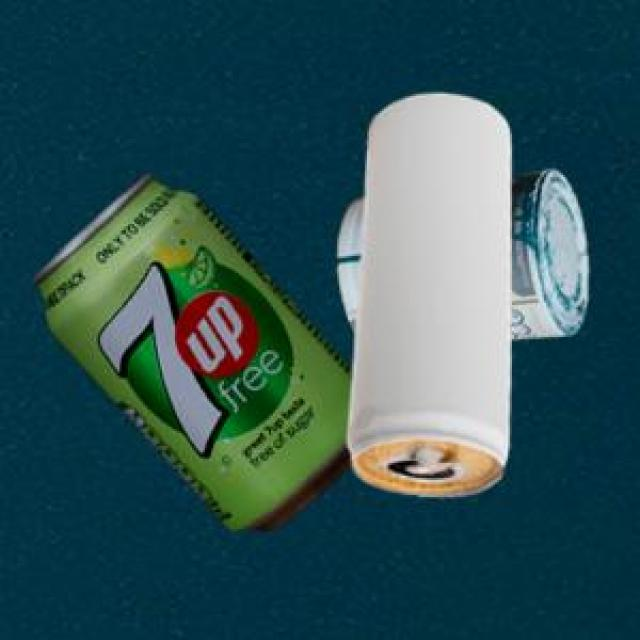logam: (29, 170, 351, 528), (345, 91, 509, 494), (334, 165, 586, 336)
